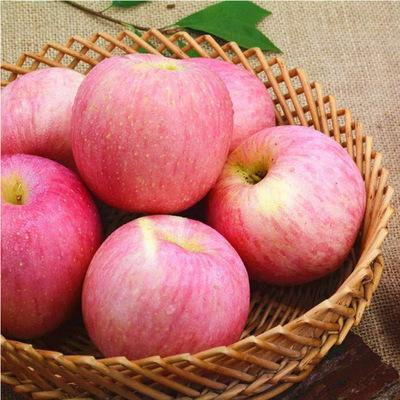apple: (49, 56, 249, 221), (207, 115, 369, 288), (80, 216, 251, 364), (1, 156, 99, 342), (181, 57, 277, 151), (1, 68, 80, 160)
